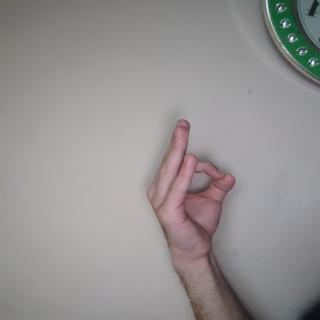Space: (143, 113, 240, 244)
